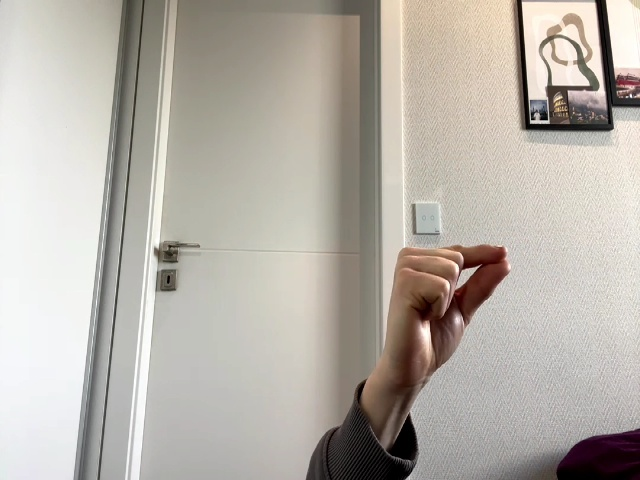P: (383, 245, 512, 403)
